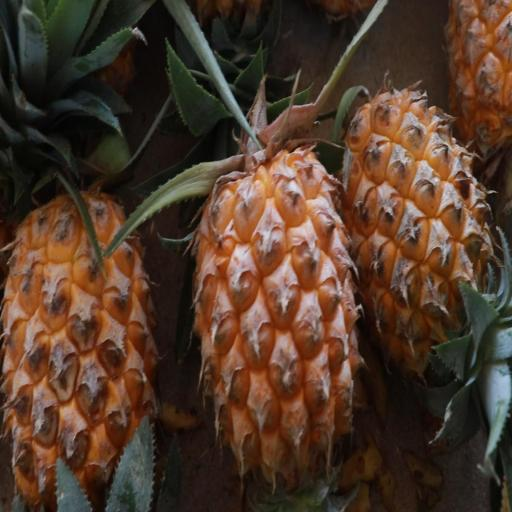Pineapple - v8 v1: (186, 115, 360, 512), (0, 122, 168, 511), (338, 82, 496, 404)
